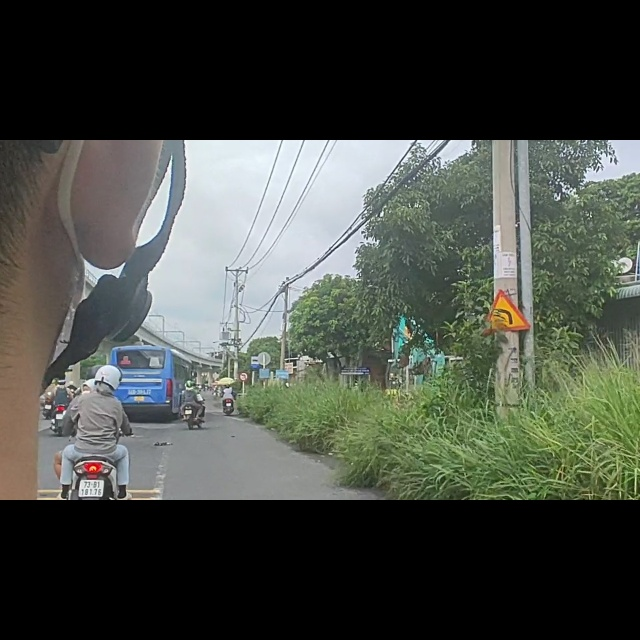bien_cam: (480, 264, 532, 343), (249, 382, 262, 409), (239, 411, 249, 428)
